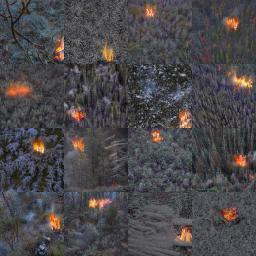Small fire: (5, 82, 33, 100), (232, 71, 254, 90), (86, 196, 114, 210), (52, 36, 65, 63), (175, 226, 192, 244), (221, 15, 240, 31), (68, 106, 86, 122), (221, 206, 240, 221), (49, 213, 63, 232), (71, 137, 87, 153), (178, 111, 193, 128), (100, 45, 114, 63), (32, 137, 45, 154), (233, 153, 247, 168), (151, 132, 166, 145), (145, 5, 156, 19)
